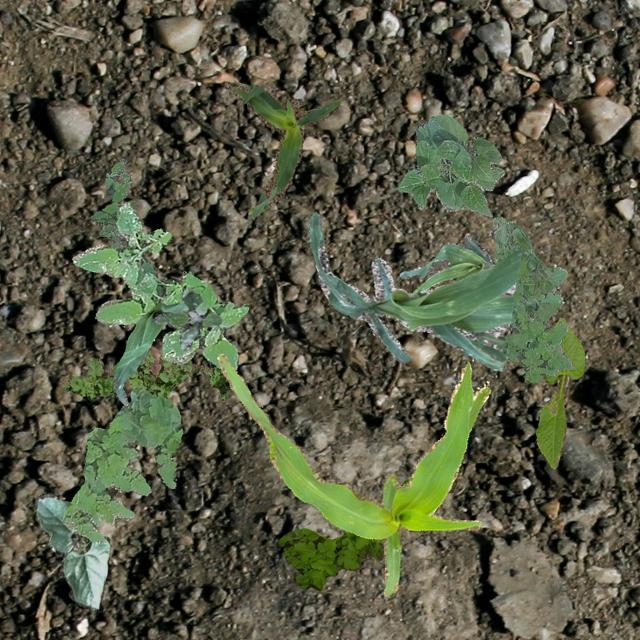crop: (216, 352, 489, 596), (308, 210, 522, 370), (223, 80, 339, 220), (396, 114, 504, 216), (34, 494, 108, 608), (112, 300, 188, 404), (534, 316, 584, 468), (398, 235, 491, 295)
weed: (72, 202, 246, 368), (276, 458, 462, 590), (62, 386, 182, 542), (482, 216, 572, 382), (64, 348, 228, 401), (90, 158, 136, 250), (154, 286, 220, 348)
